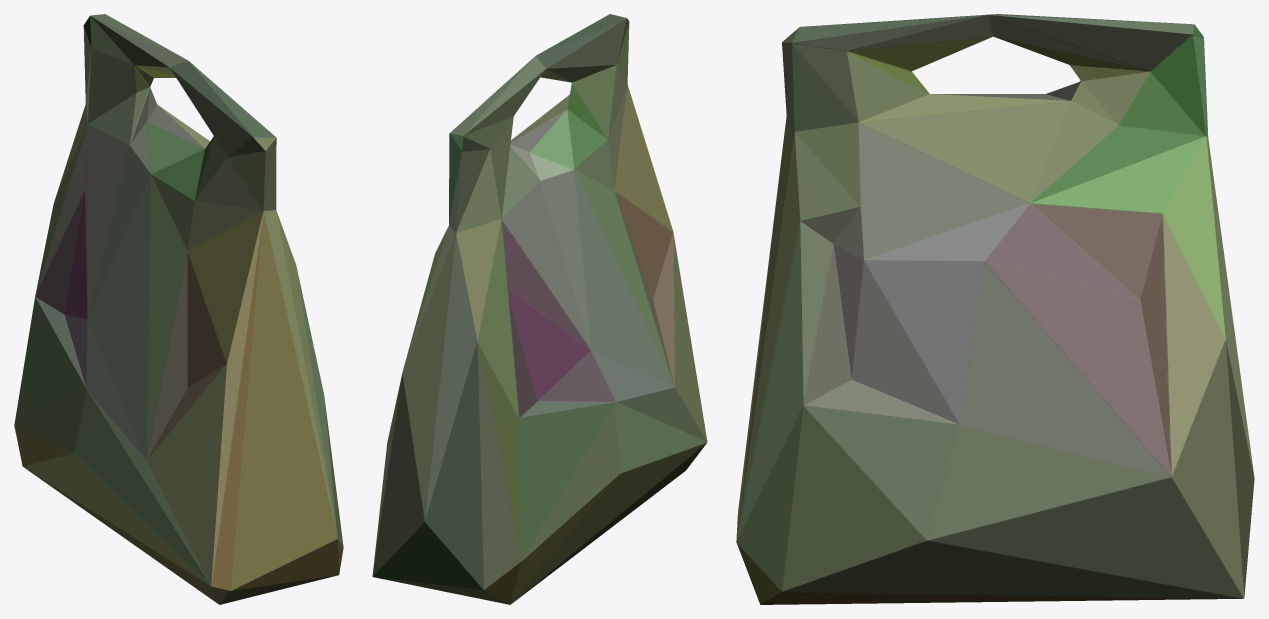
The model's file is tea.fbx.
3 renders of one model, left to right at view 1: azimuth 30°, elevation 25°; view 2: azimuth 150°, elevation 25°; view 3: azimuth 270°, elevation 25°, orthographic. The views are drawn at different scales.
Parts seen in each view (by area): view 1: Mesh_0; view 2: Mesh_0; view 3: Mesh_0.
Boxes of the visible parts, x1,y1,x2,y2 form: Mesh_0: (14, 14, 343, 604); Mesh_0: (372, 14, 707, 604); Mesh_0: (736, 14, 1254, 604).
Bounding box in the file's own units: 48.33 × 119 × 96.99.
Materials: 1 (1 with a texture image).
